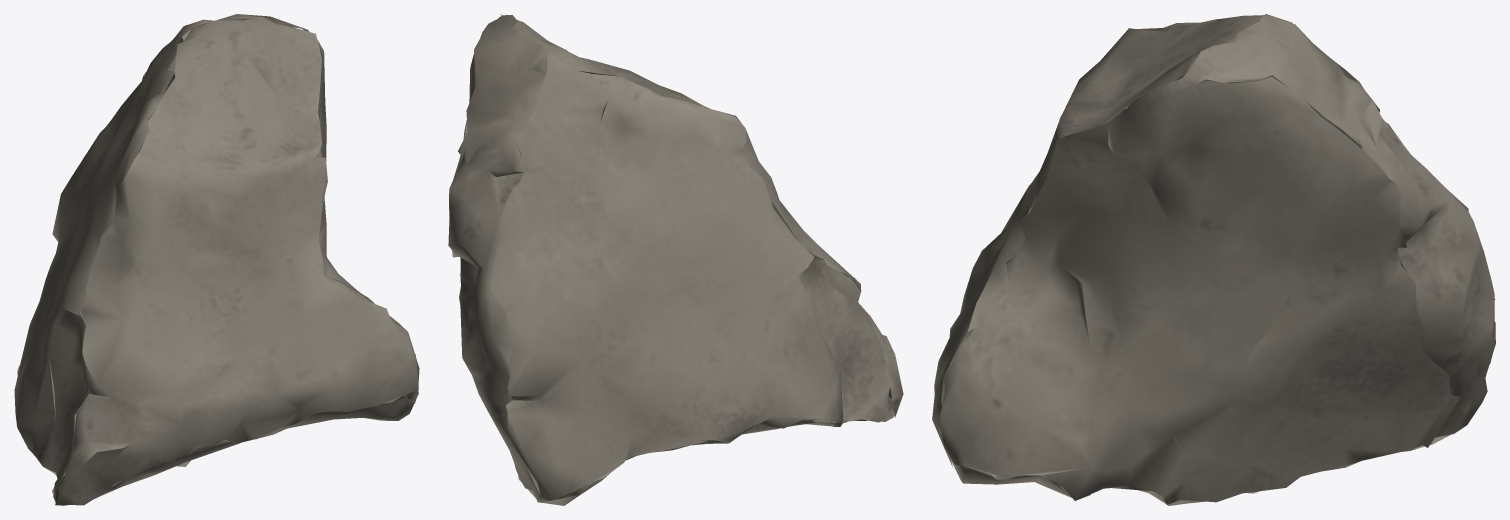
File: rock_c.glb
3 views of the same model, side by side, from view 1: azimuth 30°, elevation 25°; view 2: azimuth 150°, elevation 25°; view 3: azimuth 270°, elevation 25° (orthographic). The views are drawn at different scales.
Visible parts, largest first — view 1: rock_c; view 2: rock_c; view 3: rock_c.
Part boxes in pixels (x1,y1,x2,y2): rock_c: [14, 14, 419, 505]; rock_c: [448, 14, 903, 505]; rock_c: [932, 14, 1495, 505].
Bounding box in the file's own units: 1.26 × 1.29 × 1.42.
Materials: 1 (1 with a texture image).
